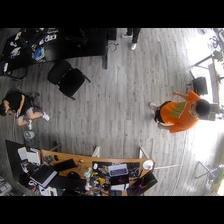normal: (149, 86, 210, 134)
